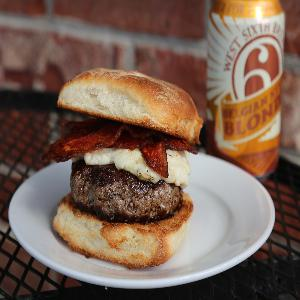cheeseburger: (44, 63, 204, 271)
